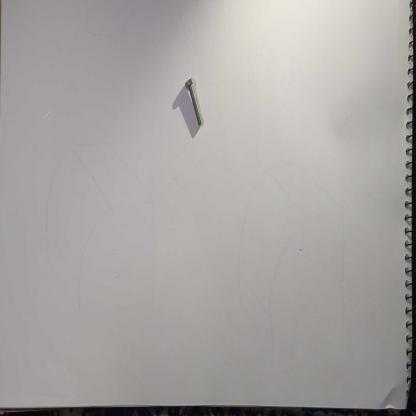Bolts: (182, 72, 206, 130)
